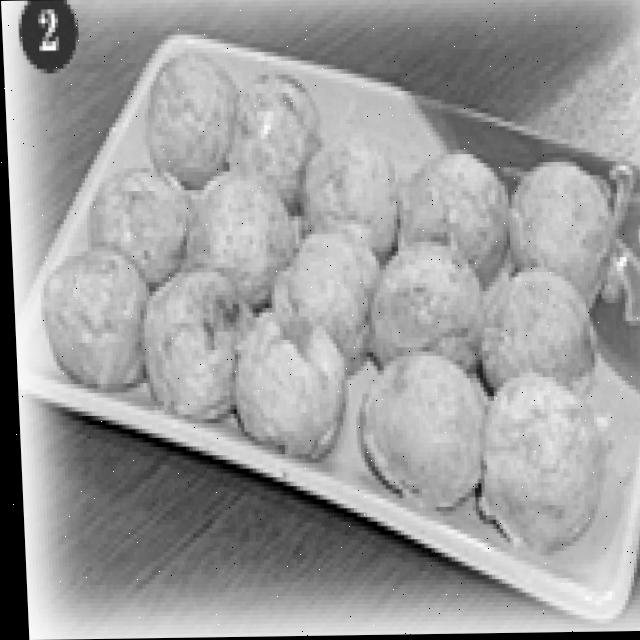炸货点心: (81, 25, 623, 552)
